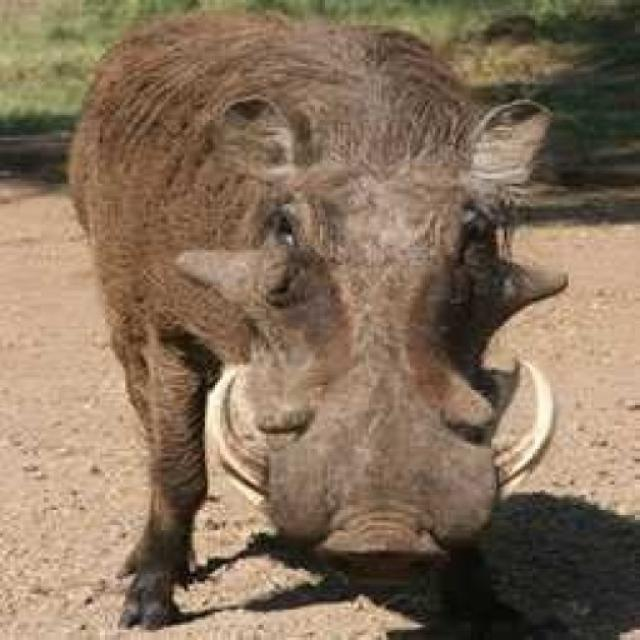pig: (48, 7, 574, 618)
